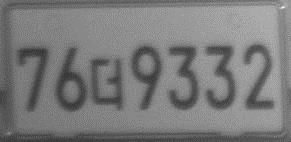2: (241, 41, 276, 110)
3: (165, 44, 200, 110), (202, 44, 237, 110)
6: (53, 44, 87, 112)
7: (16, 45, 50, 113)
9: (127, 44, 164, 111)
더: (89, 57, 125, 111)
